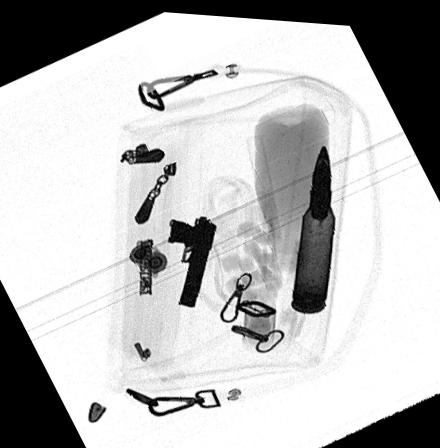Bullet: (290, 139, 336, 311)
Gun: (167, 213, 217, 304)
